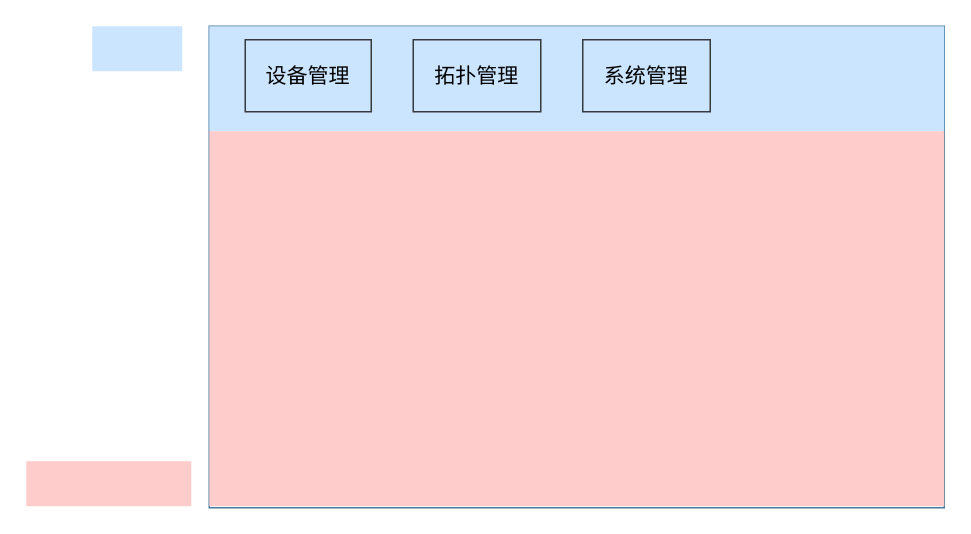
The diagram is 971 pixels wide and 534 high, and some of its shapes have lost their labels. Here are the shapes that lost their labels. From the top down, the centre of each, then its label:
At [137,48]: "导航栏".
At [108,483]: "微应用容器".
